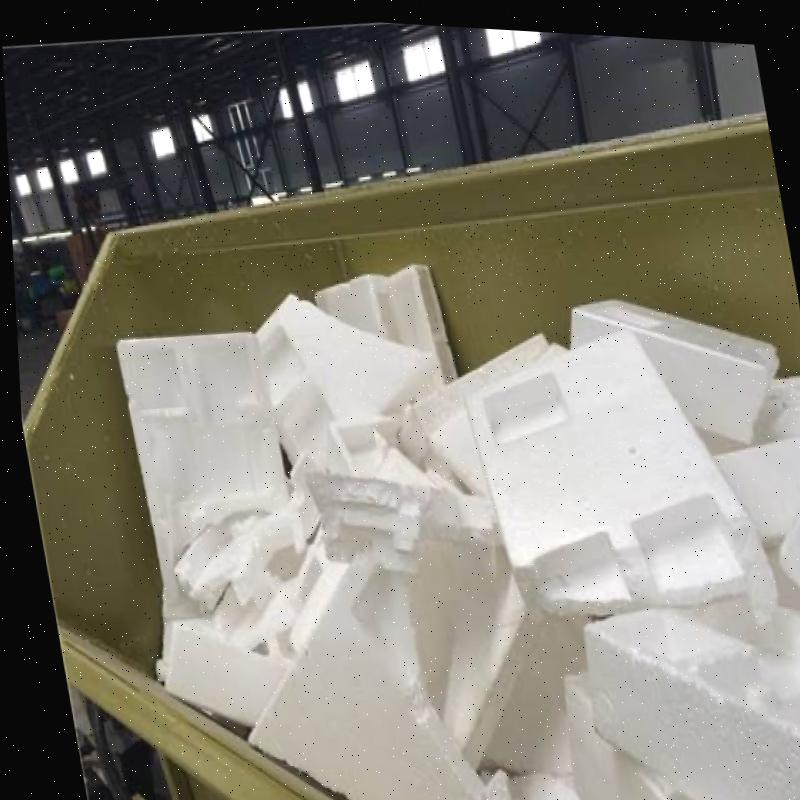styrofoam containers: (465, 341, 779, 629), (249, 559, 507, 800), (115, 335, 291, 620), (585, 602, 800, 800), (292, 333, 545, 497), (414, 570, 588, 800), (256, 295, 444, 462), (570, 300, 780, 445), (173, 490, 347, 658), (695, 375, 800, 612), (304, 474, 502, 581), (314, 265, 457, 383), (154, 619, 295, 736)
